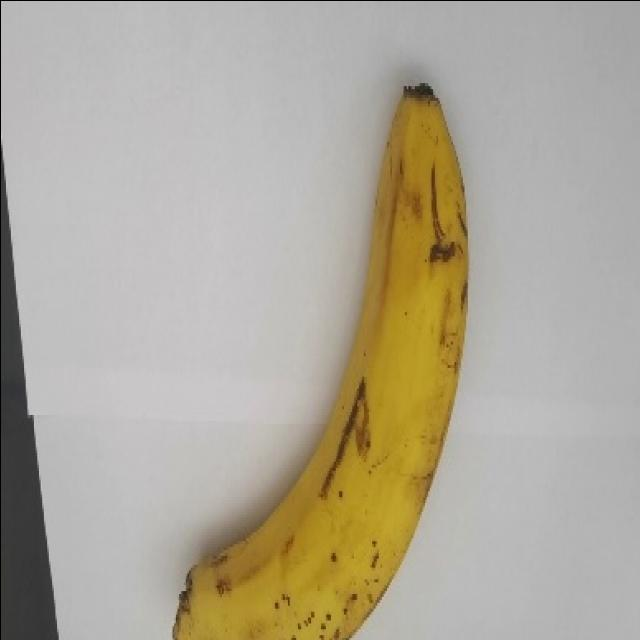Banana: (171, 81, 470, 639)
